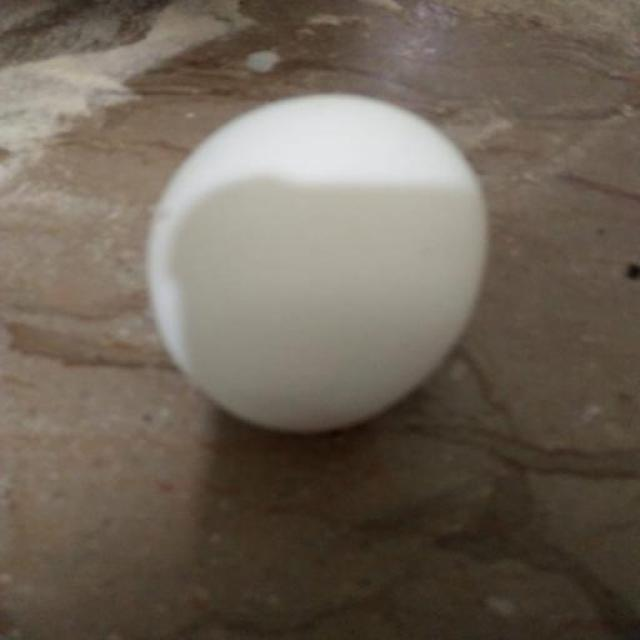telur: (143, 92, 491, 433)
